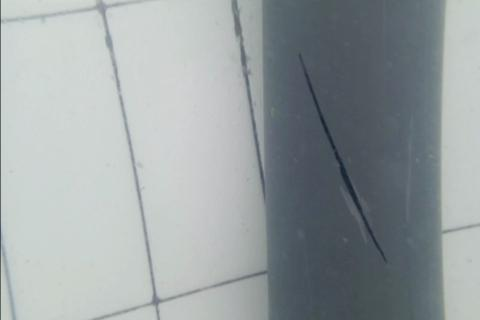keretakan: (298, 51, 390, 267)
